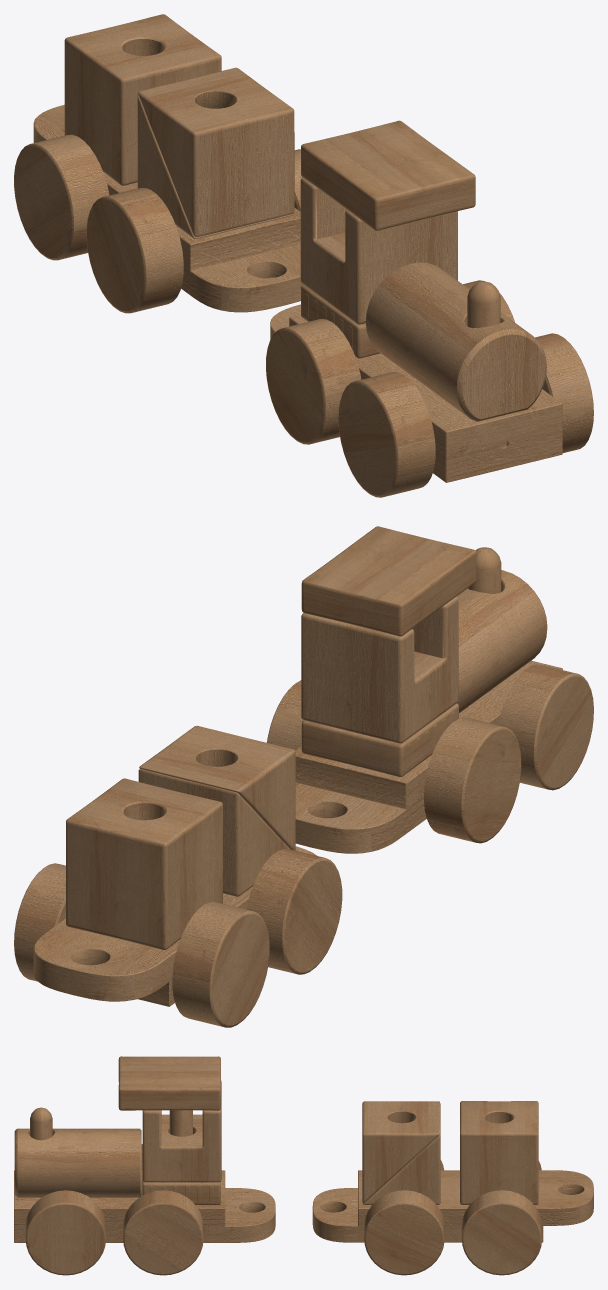
Rendered from trainuno.glb.
3 renders of one model, top to bottom at view 1: azimuth 30°, elevation 25°; view 2: azimuth 150°, elevation 25°; view 3: azimuth 270°, elevation 25°, orthographic. The views are drawn at different scales.
Visible parts, largest first — view 1: Neo Wooden Block Toy Train, Group001; view 2: Neo Wooden Block Toy Train, Group001; view 3: Neo Wooden Block Toy Train, Group001.
Boxes of the visible parts, x1,y1,x2,y2 form: Neo Wooden Block Toy Train: (266,120,593,497); Group001: (14,14,302,313); Neo Wooden Block Toy Train: (267,526,593,853); Group001: (14,725,342,1027); Neo Wooden Block Toy Train: (14,1056,275,1275); Group001: (312,1101,593,1275).
Size of the model in its own units: 0.0678 by 0.083 by 0.2556.
Materials: 1 (1 with a texture image).
